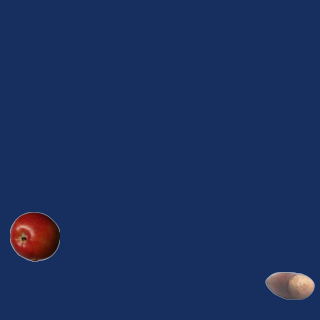Apple Braeburn: (9, 211, 59, 261)
Hazelnut: (264, 260, 314, 310)
